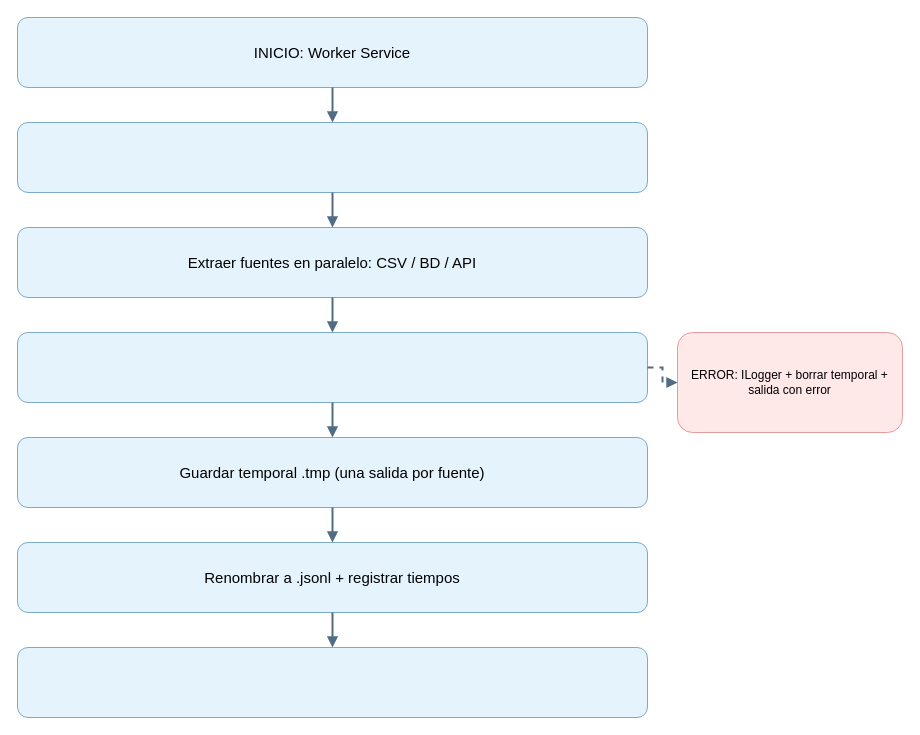
The diagram is 920 pixels wide and 735 high, and some of its shapes have lost their labels. Each missing label, with the centre of its shape:
"FIN: staging de datos extraídos" belongs at (332,682).
"Leer configuración + crear BD demo" belongs at (332,157).
"Validar y mapear a OpinionCruda" belongs at (332,367).
